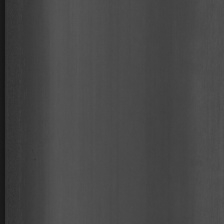inclusion: (201, 7, 224, 181)
